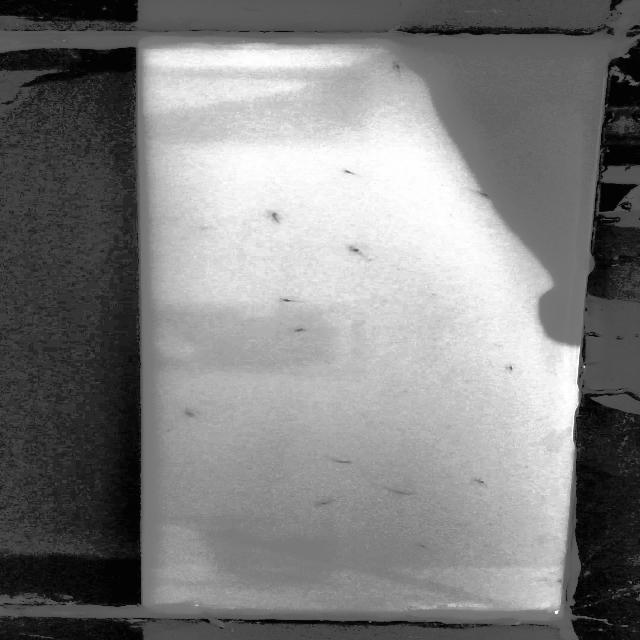shrimp: (166, 406, 220, 424), (339, 240, 378, 264), (326, 450, 360, 472), (376, 483, 422, 499), (459, 472, 498, 490), (327, 163, 367, 180), (404, 540, 443, 556), (299, 498, 346, 510), (380, 57, 410, 75), (493, 358, 521, 377), (285, 321, 312, 340), (457, 189, 506, 199), (259, 296, 307, 305), (260, 212, 283, 227)
